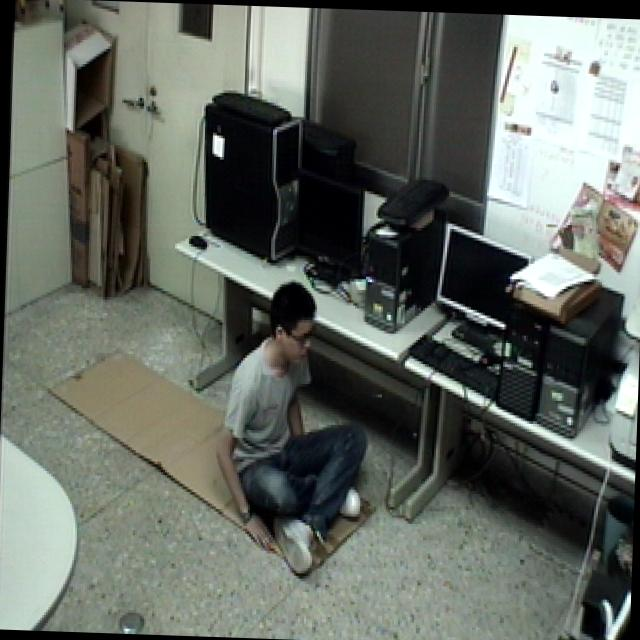sit: (210, 265, 384, 582)
